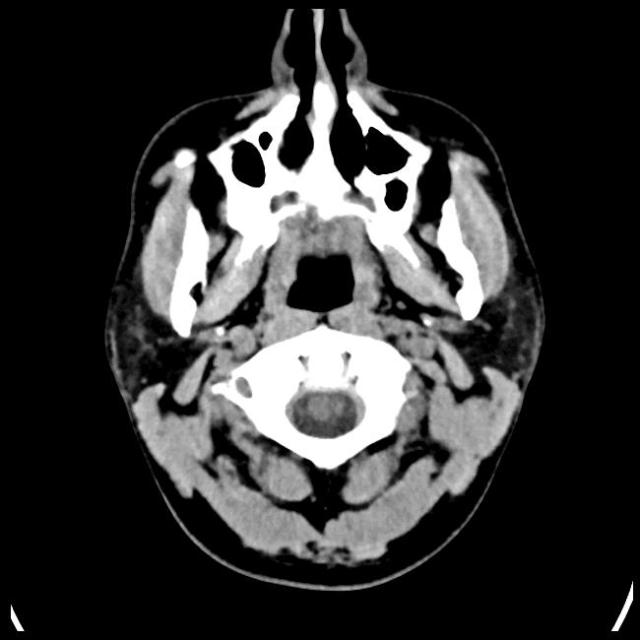lesion: (102, 11, 548, 580)
